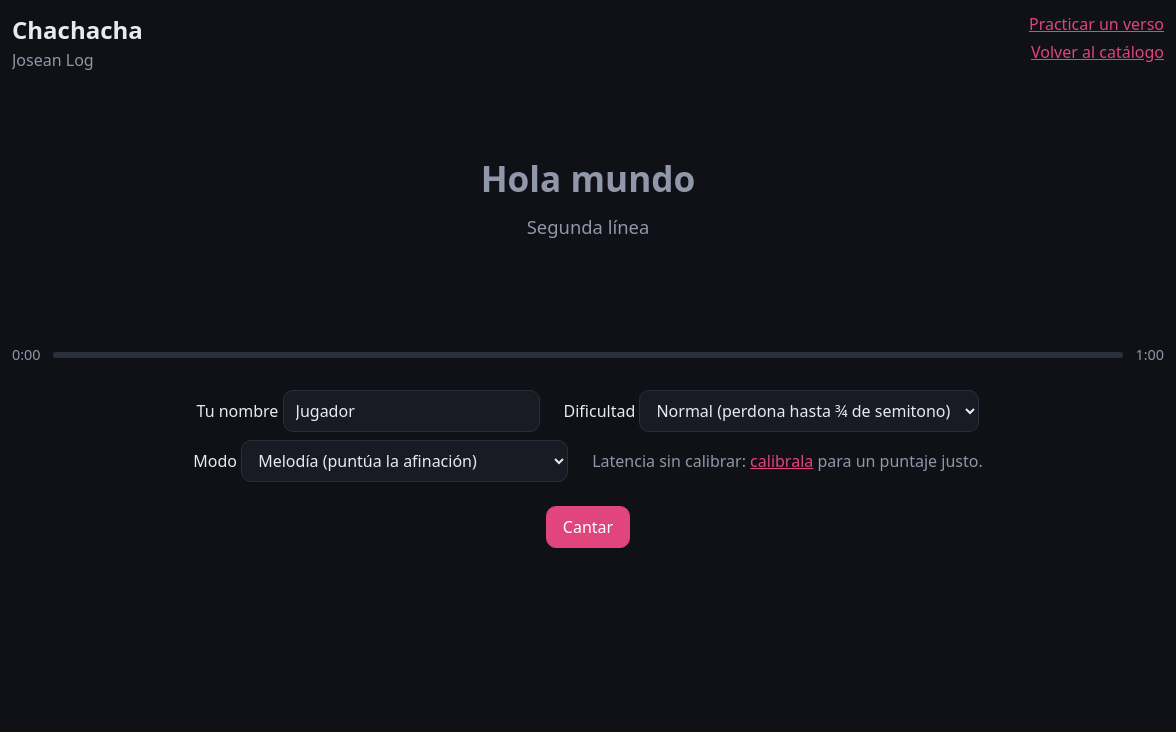
Test: SongPage › sends each sung line and shows its score
The width and height of the screenshot is (1176, 732).
Step 1. Click the button "Cantar" → x=588, y=527, box [546,506,630,548]
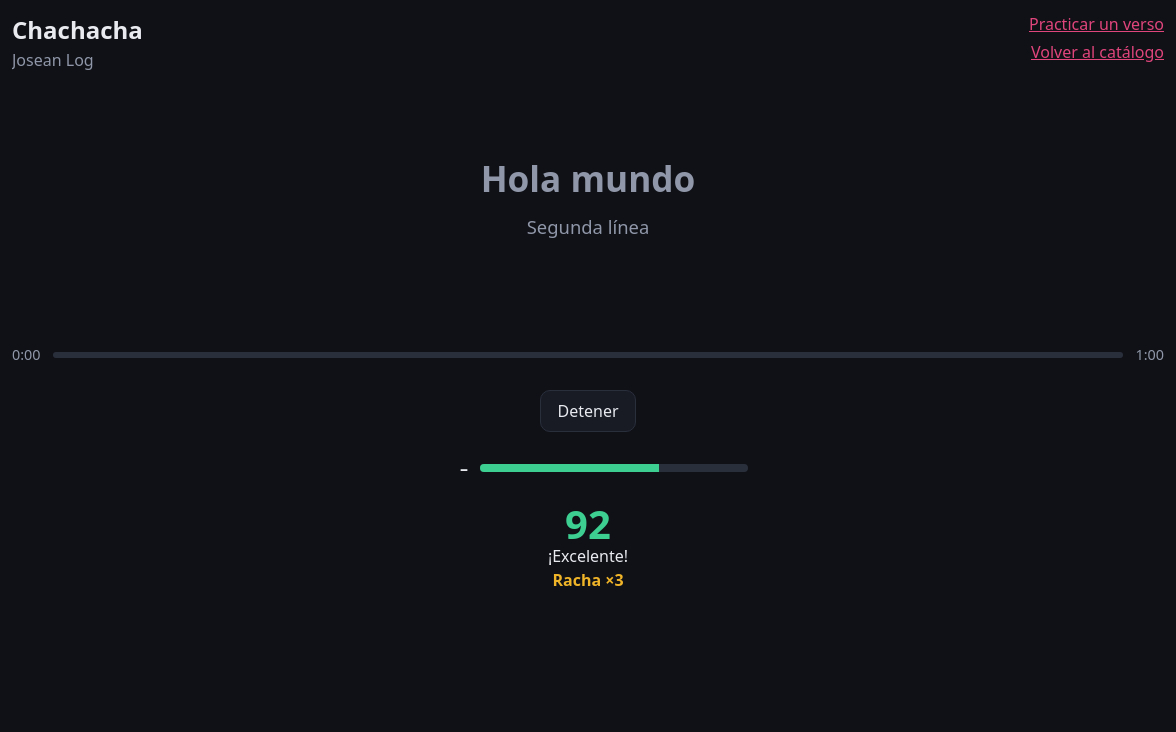
Check: the button "Detener" is shown, box [540,390,636,432]
Check: the message named "Puntaje del verso" shows "92", box [565,496,611,551]
Check: the message named "Puntaje del verso" shows "¡Excelente!", box [548,545,628,567]
